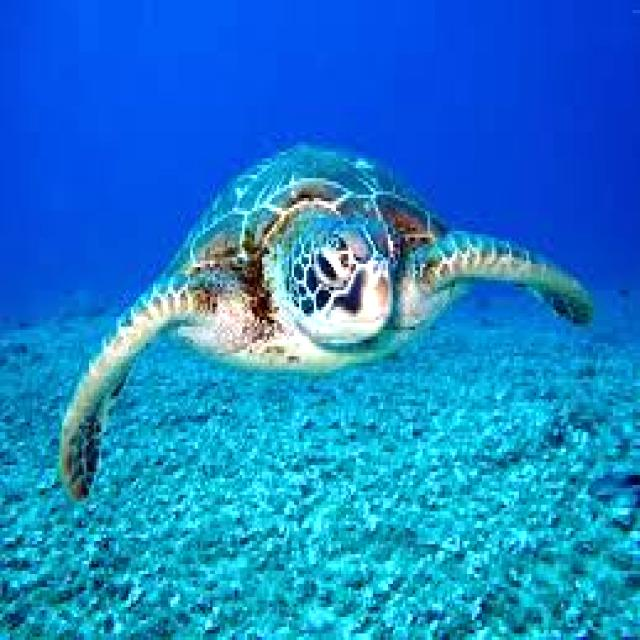Sea turtle: (48, 113, 605, 506)
